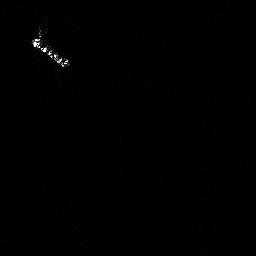ship: (29, 28, 75, 72)
